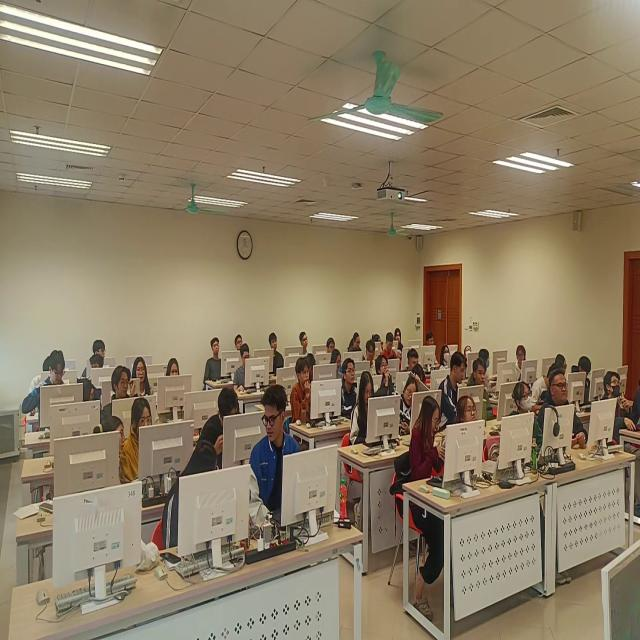raise_head: (538, 372, 586, 459), (508, 376, 542, 473), (597, 370, 633, 455), (454, 390, 487, 477), (100, 362, 138, 430), (291, 358, 317, 428), (468, 358, 495, 425), (203, 334, 228, 389), (339, 357, 360, 418), (131, 356, 155, 409), (163, 353, 184, 410), (267, 328, 286, 376), (234, 344, 254, 386), (376, 353, 392, 398), (438, 340, 454, 380), (393, 325, 408, 362), (233, 325, 247, 357), (298, 324, 311, 354), (326, 335, 337, 362), (465, 344, 475, 373)
using_computer: (21, 347, 67, 441), (198, 377, 248, 459), (121, 391, 154, 492), (349, 369, 383, 461), (392, 365, 423, 436), (573, 352, 596, 408), (76, 375, 104, 420), (28, 349, 52, 400), (348, 327, 365, 367), (401, 345, 420, 380), (423, 329, 440, 368), (363, 339, 379, 376), (330, 348, 345, 386), (382, 331, 397, 368), (555, 349, 570, 382), (371, 332, 384, 350)
